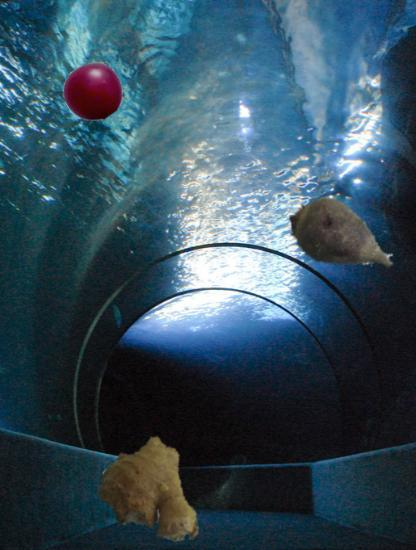Beetroot: (280, 177, 402, 299)
Cherry: (64, 63, 124, 123)
Ginger: (101, 436, 215, 550)
